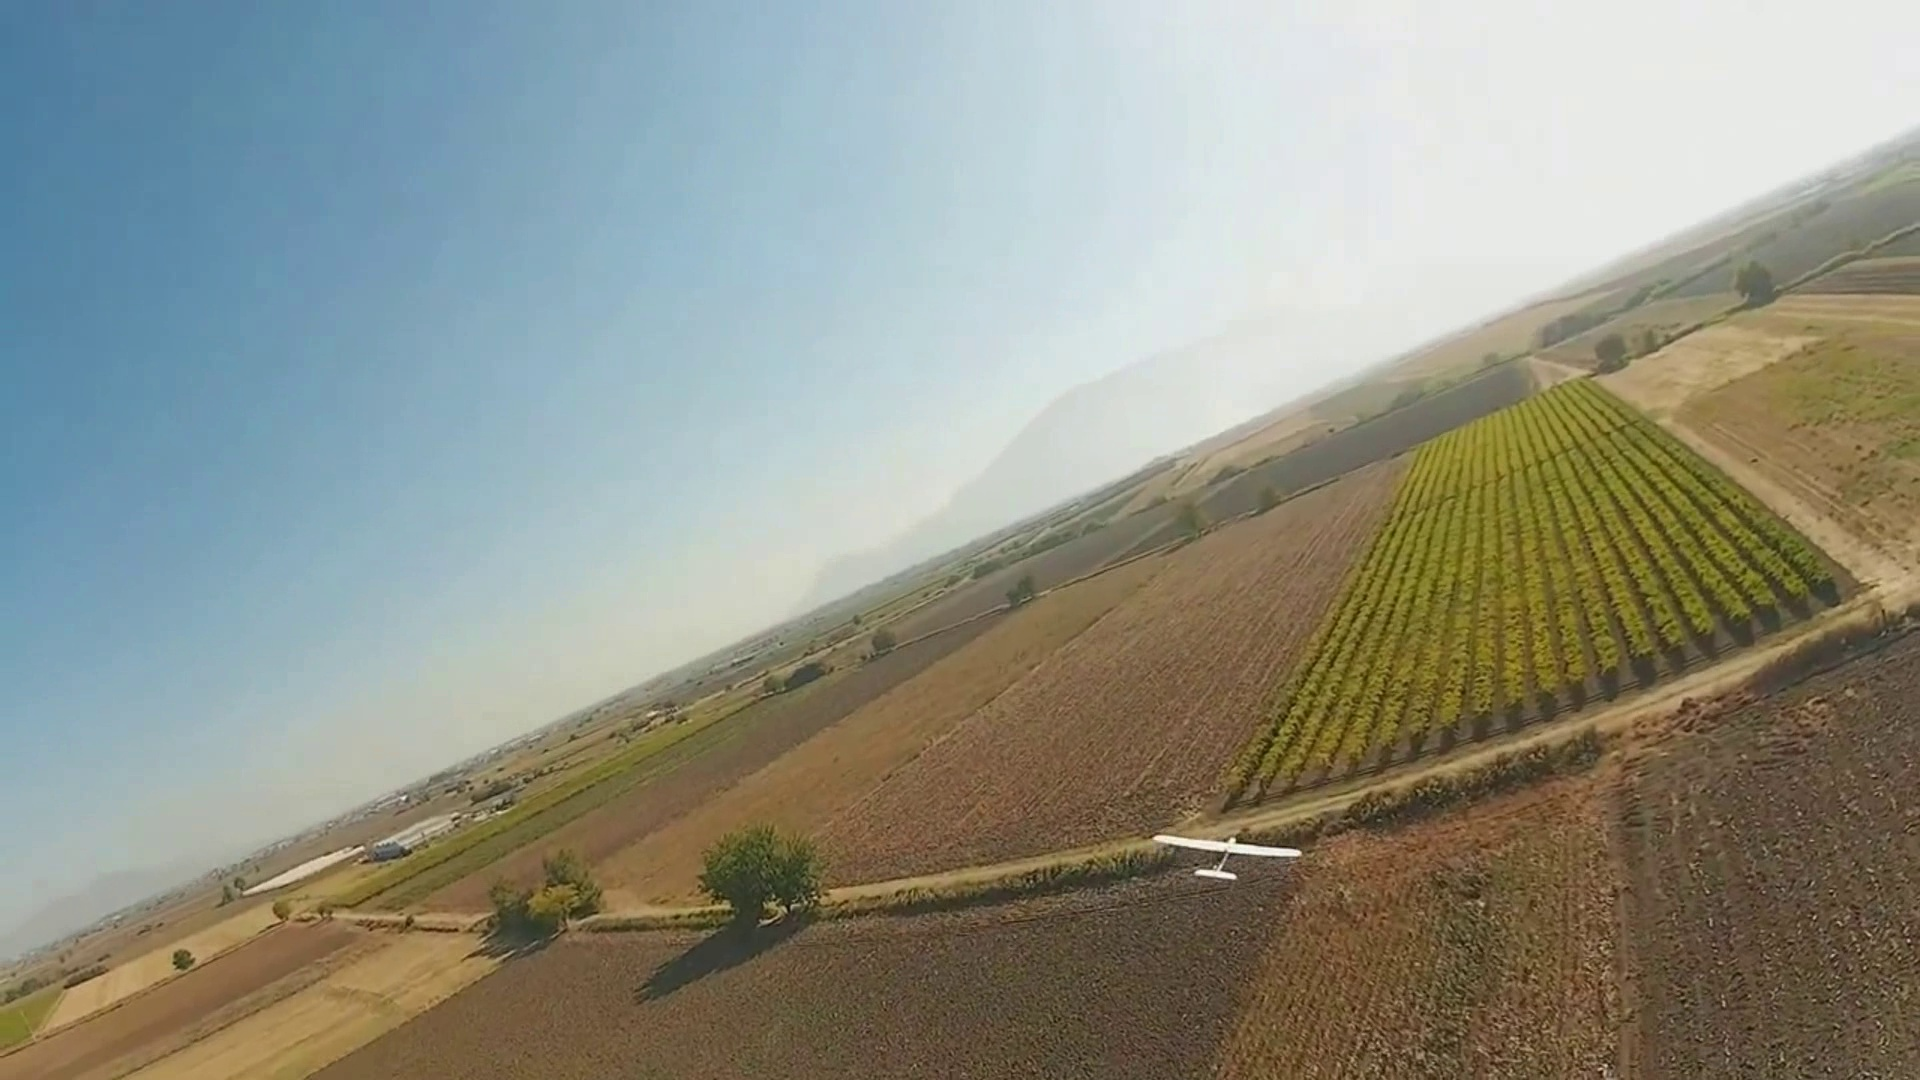airplane: (51, 115, 1917, 942)
